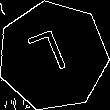L_S: (29, 27, 77, 85)
